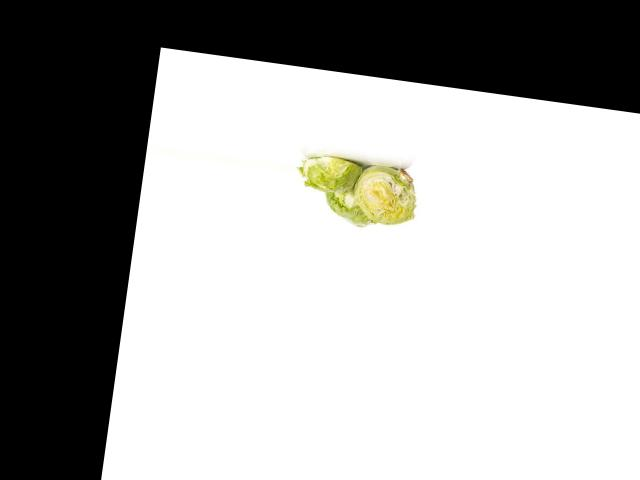lettuce: (315, 180, 387, 231)
